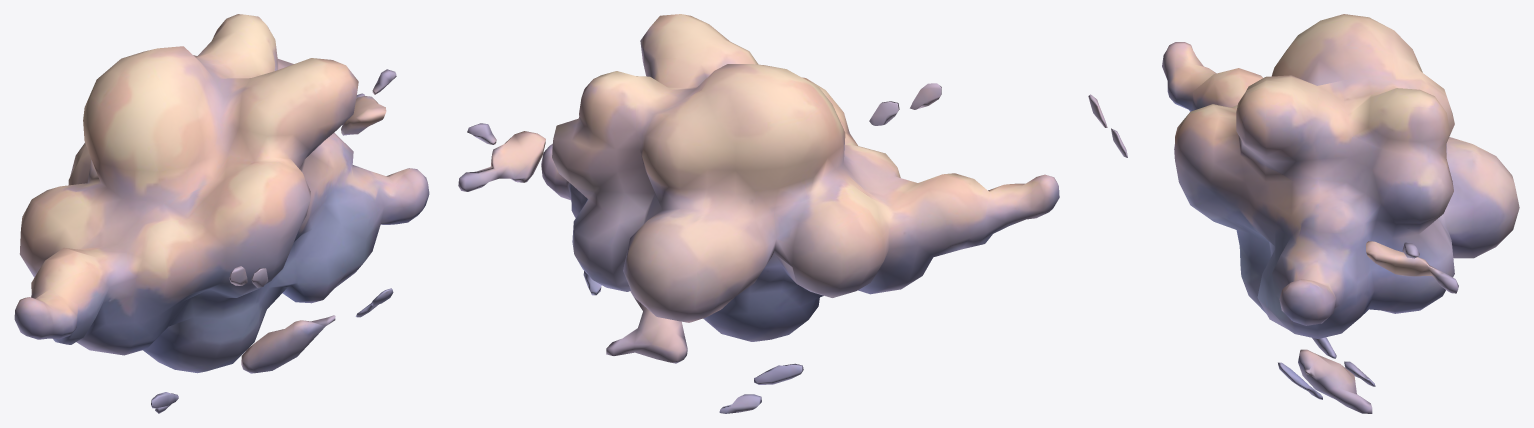
The model's file is SM_Cloud_03.fbx.
3 renders of one model, left to right at view 1: azimuth 30°, elevation 25°; view 2: azimuth 150°, elevation 25°; view 3: azimuth 270°, elevation 25°, orthographic. The views are drawn at different scales.
Parts seen in each view (by area): view 1: SM_Cloud_03; view 2: SM_Cloud_03; view 3: SM_Cloud_03.
Part boxes in pixels (box(x1,y1,x2,y2)): SM_Cloud_03: box(14, 14, 429, 413); SM_Cloud_03: box(458, 14, 1059, 413); SM_Cloud_03: box(1088, 14, 1519, 413).
Bounding box in the file's own units: 124 × 85.28 × 95.09.
Materials: 1 (1 with a texture image).
